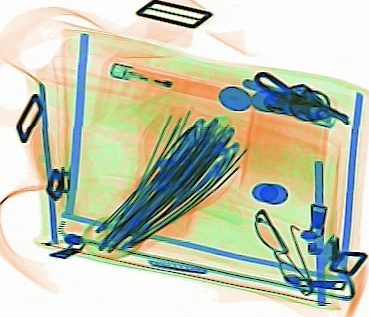lighter: (109, 59, 222, 101)
